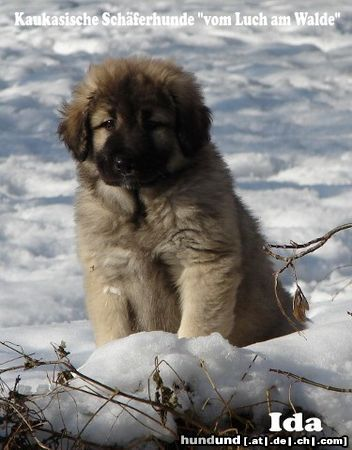cau_ovcharka: (56, 54, 311, 349)
